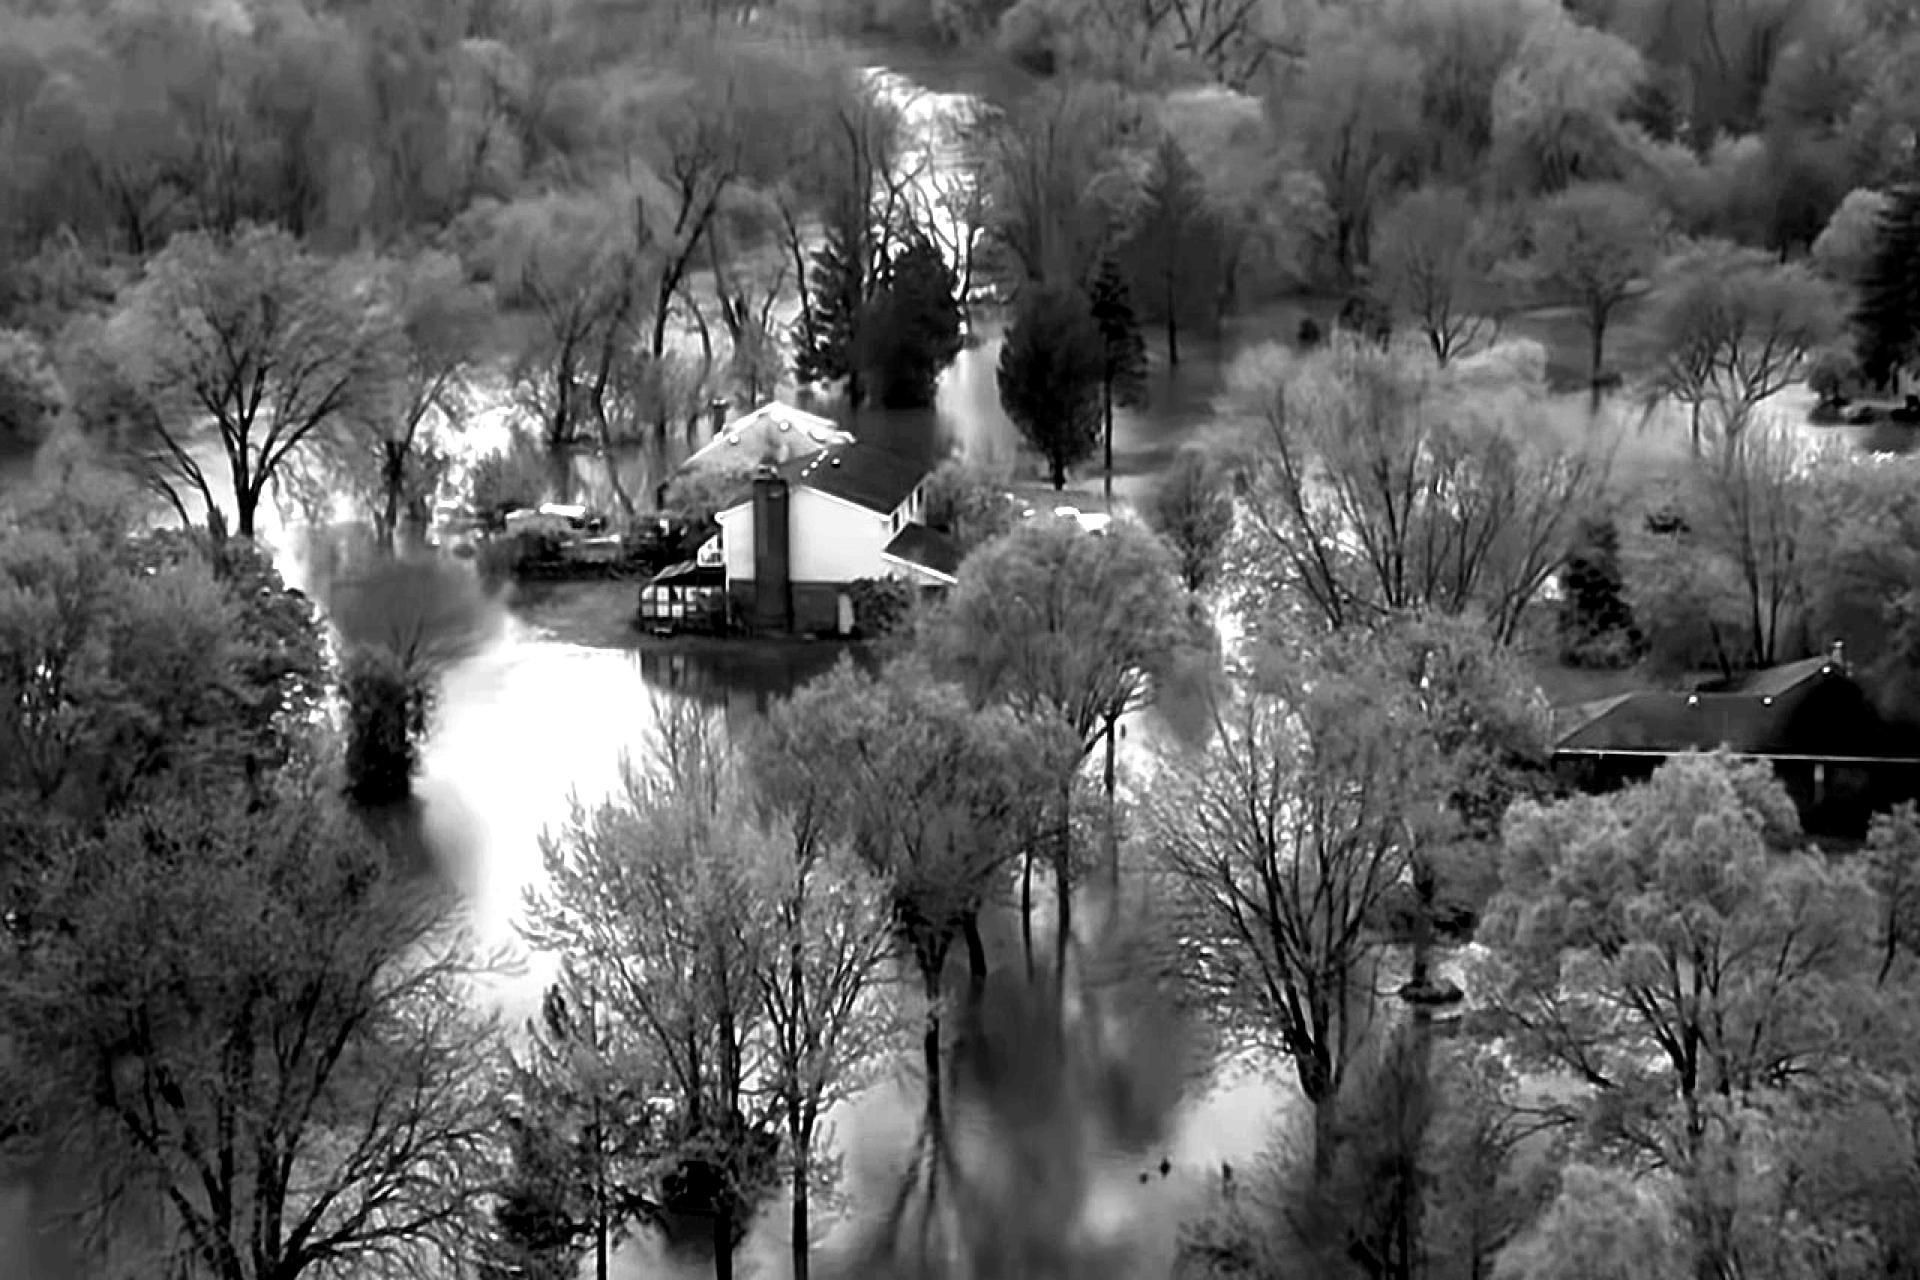House: (657, 390, 970, 643), (1541, 651, 1920, 830)
Vehicle: (1051, 504, 1110, 534)
